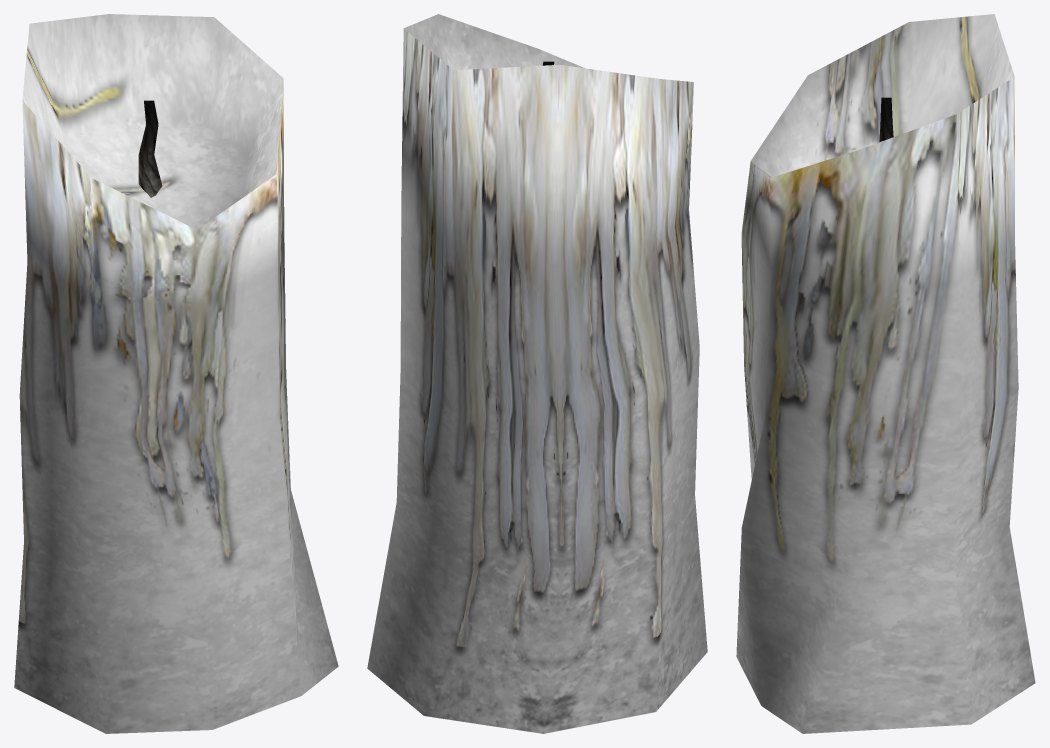
The model's file is Candle_02.fbx.
3 renders of one model, left to right at view 1: azimuth 30°, elevation 25°; view 2: azimuth 150°, elevation 25°; view 3: azimuth 270°, elevation 25°, orthographic. The views are drawn at different scales.
Visible parts, largest first — view 1: Candle; view 2: Candle; view 3: Candle.
Part boxes in pixels (box(x1,y1,x2,y2)): Candle: box(14, 14, 338, 733); Candle: box(367, 14, 707, 733); Candle: box(736, 14, 1035, 733).
Bounding box in the file's own units: 0.1063 × 0.2383 × 0.1047.
